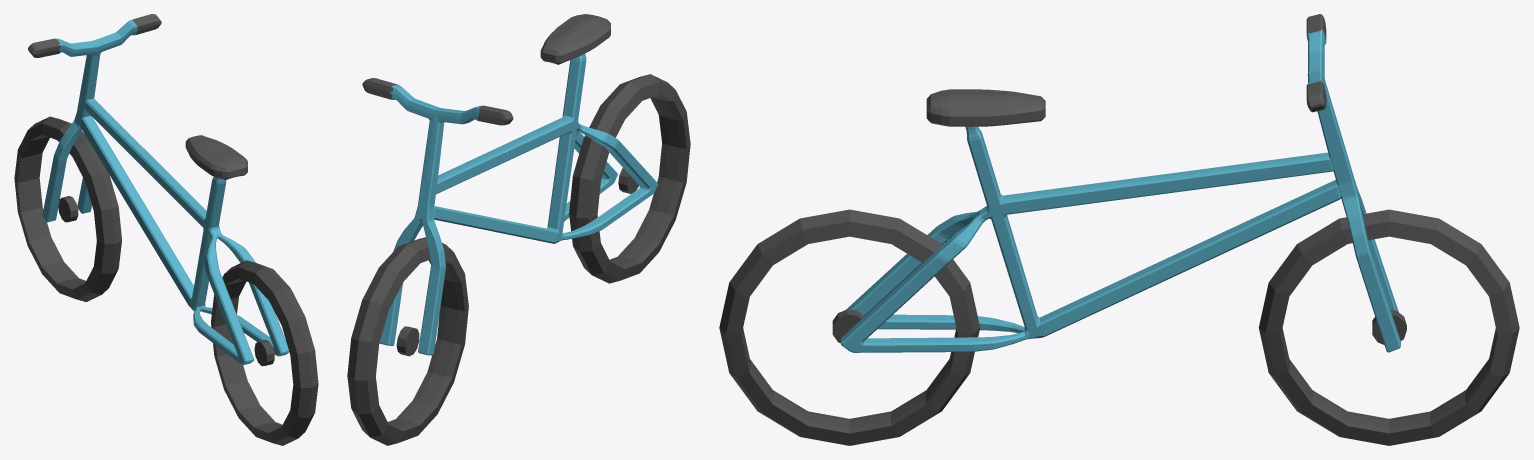
The model's file is bicycle.glb.
3 views of the same model, side by side, from view 1: azimuth 30°, elevation 25°; view 2: azimuth 150°, elevation 25°; view 3: azimuth 270°, elevation 25° (orthographic). The views are drawn at different scales.
Parts seen in each view (by area): view 1: Frame_Cube.005, FrontWheel_Cylinder.002, BackWheel_Cylinder.001, Handle_Cube.000, Saddle_Cube.007; view 2: FrontWheel_Cylinder.002, BackWheel_Cylinder.001, Frame_Cube.005, Handle_Cube.000, Saddle_Cube.007; view 3: Frame_Cube.005, FrontWheel_Cylinder.002, BackWheel_Cylinder.001, Handle_Cube.000, Saddle_Cube.007.
Part boxes in pixels (<box>): Frame_Cube.005: <box>80,98,289,365</box>; FrontWheel_Cylinder.002: <box>14,116,121,301</box>; BackWheel_Cylinder.001: <box>211,260,318,445</box>; Handle_Cube.000: <box>28,14,161,222</box>; Saddle_Cube.007: <box>185,135,247,179</box>; FrontWheel_Cylinder.002: <box>347,237,468,445</box>; BackWheel_Cylinder.001: <box>569,74,690,283</box>; Frame_Cube.005: <box>434,53,658,243</box>; Handle_Cube.000: <box>362,78,513,355</box>; Saddle_Cube.007: <box>540,14,610,64</box>; Frame_Cube.005: <box>841,126,1341,352</box>; FrontWheel_Cylinder.002: <box>1258,209,1519,445</box>; BackWheel_Cylinder.001: <box>719,209,980,445</box>; Handle_Cube.000: <box>1306,14,1400,352</box>; Saddle_Cube.007: <box>926,89,1045,126</box>.
Size of the model in its own units: 1.49 by 3.15 by 5.83.
